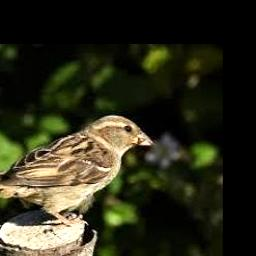Sparrow: (0, 114, 153, 224)
